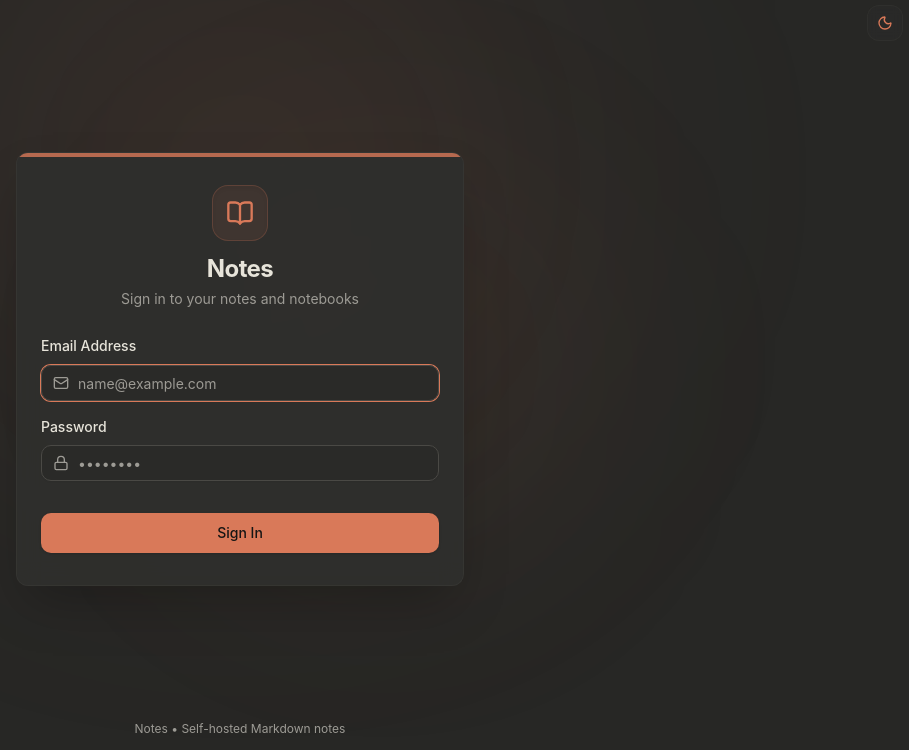
Test: LoginPage › shows the server's error for wrong credentials and stays on the page
Type "demo@example.com" into the field labelled "Email Address" at (240, 383), box [41, 365, 439, 401]
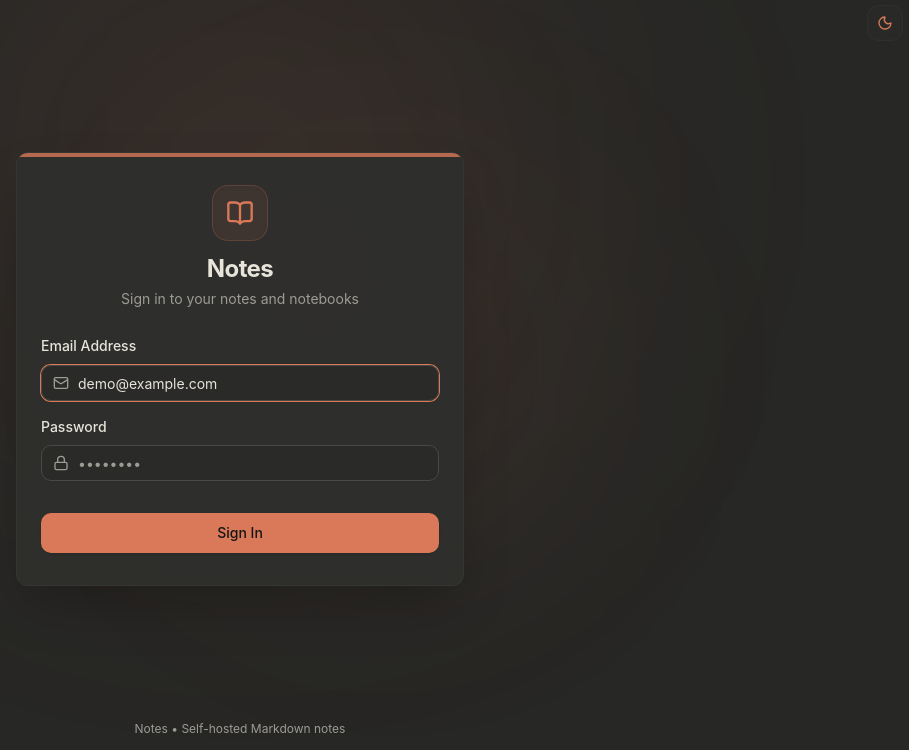
Type "wrong" into the password field labelled "Password" at (240, 463), box [41, 445, 439, 481]
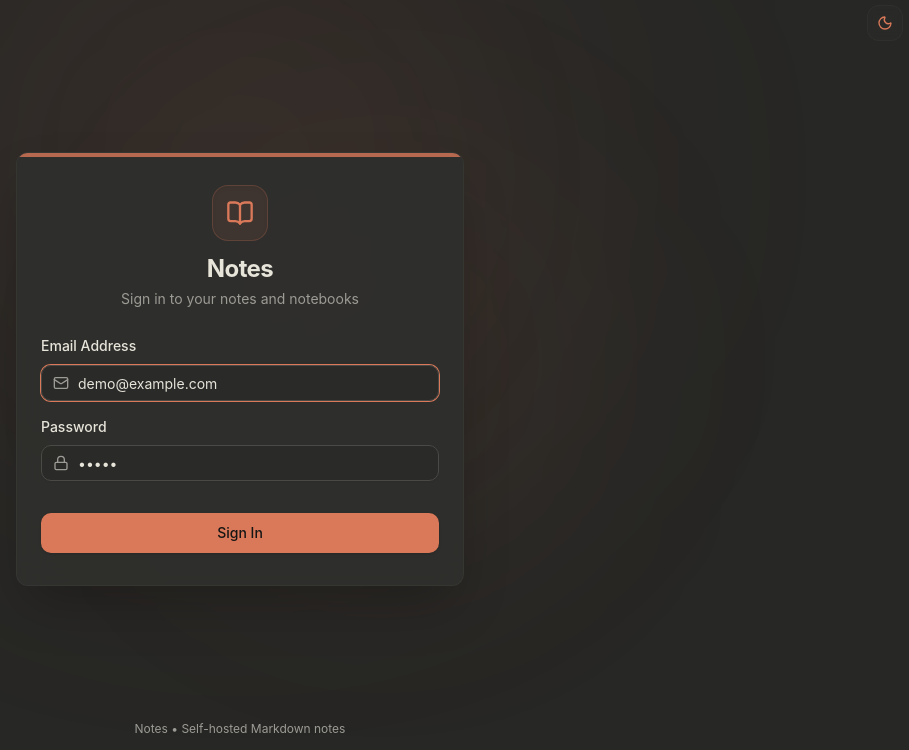
Click the button "Sign In" at (240, 533), box [41, 513, 439, 553]
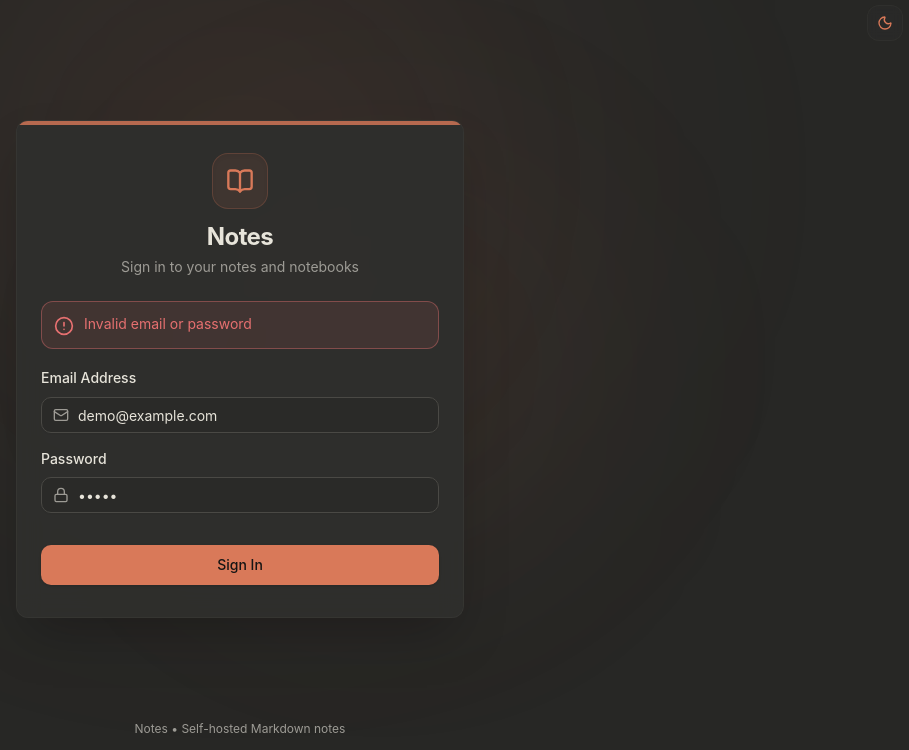
Expected: the button "Sign In" is enabled, [41, 545, 439, 585]
Expected: the text "Invalid email or password" is shown, [84, 314, 252, 333]
